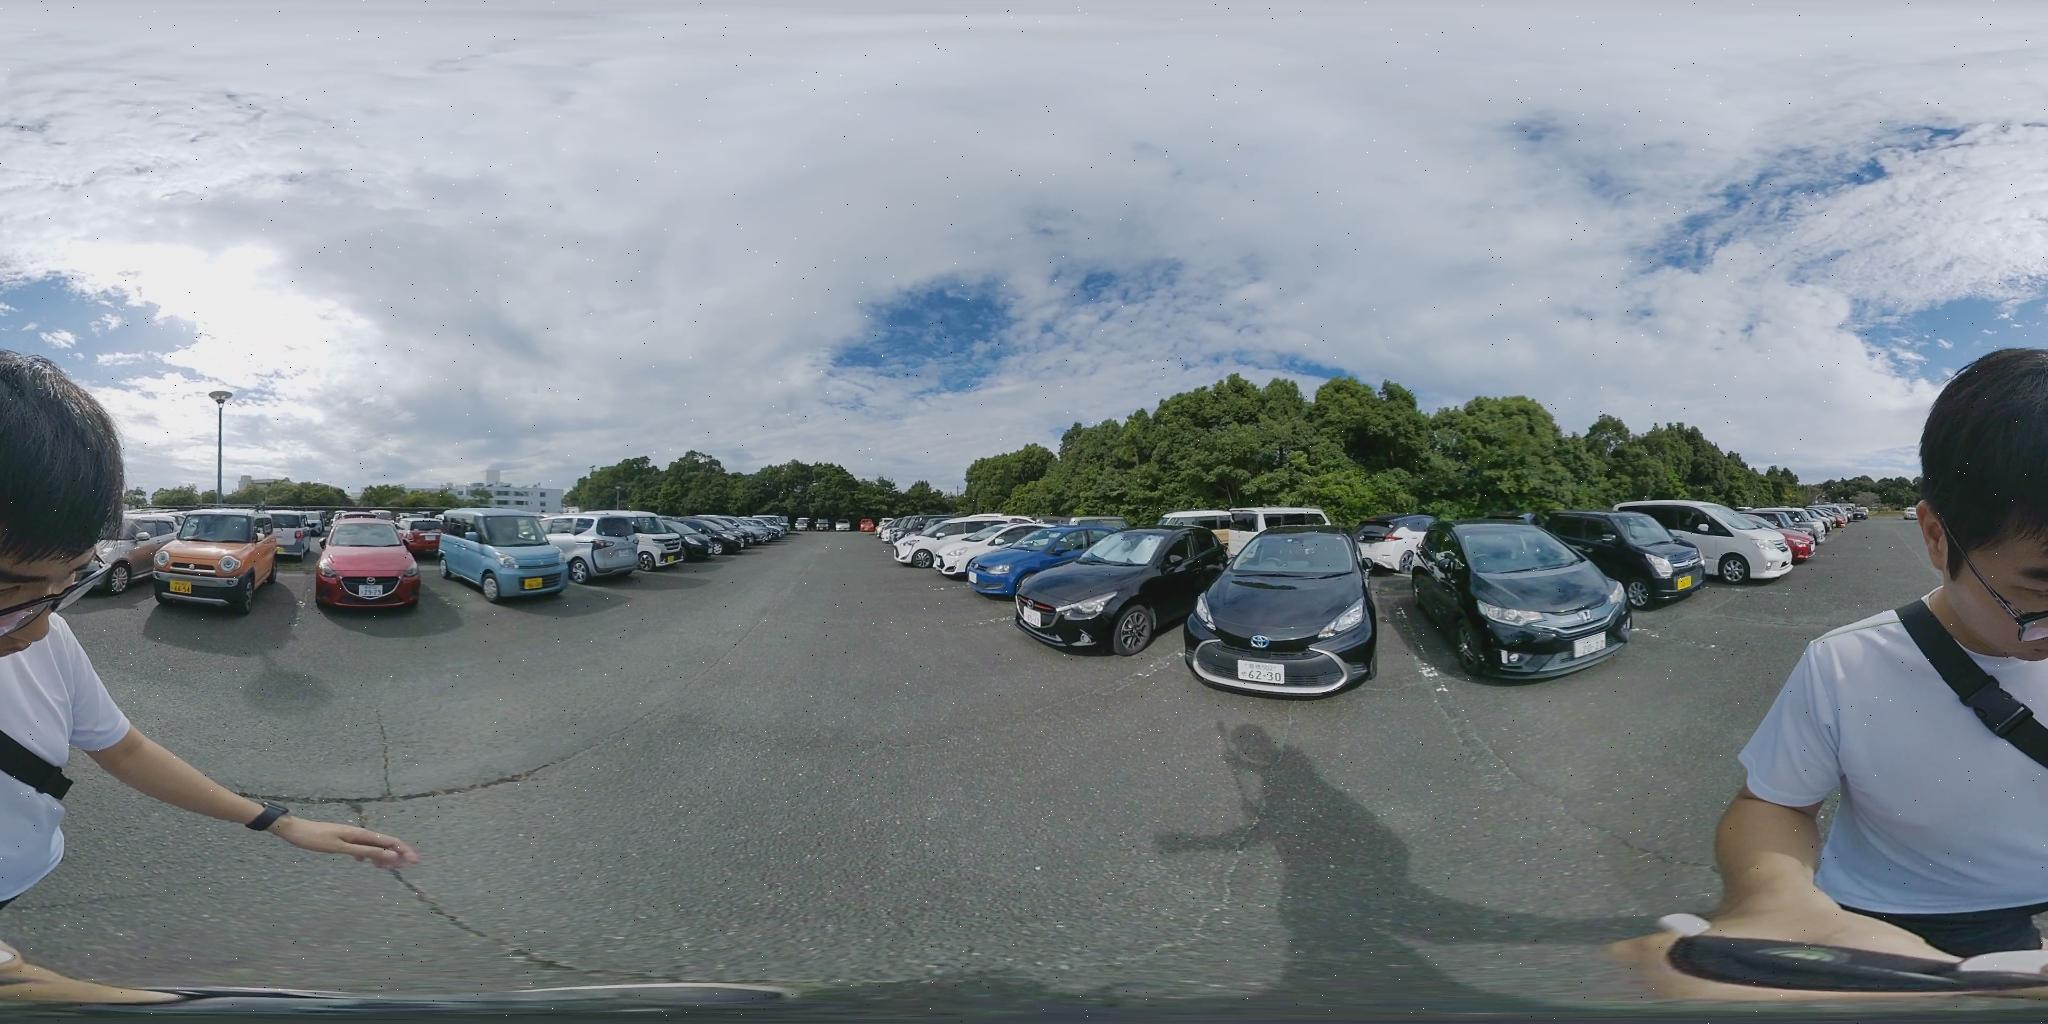car: (1399, 519, 1635, 686), (1183, 528, 1381, 696), (1011, 526, 1236, 656), (1607, 499, 1809, 583), (1532, 512, 1702, 606), (146, 508, 276, 613), (443, 508, 567, 606), (956, 524, 1121, 597), (323, 526, 431, 611), (551, 512, 692, 573), (892, 517, 1036, 572), (1358, 516, 1442, 573), (1737, 509, 1825, 556), (332, 512, 406, 547)
